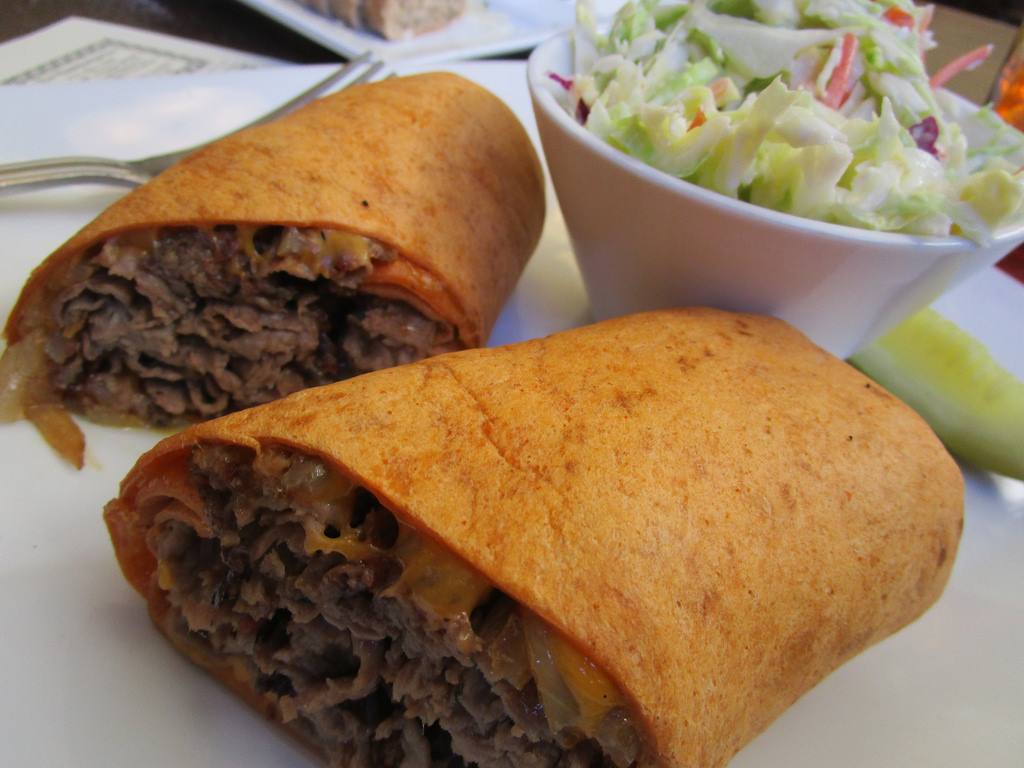chopped lettuce: (629, 20, 983, 191)
